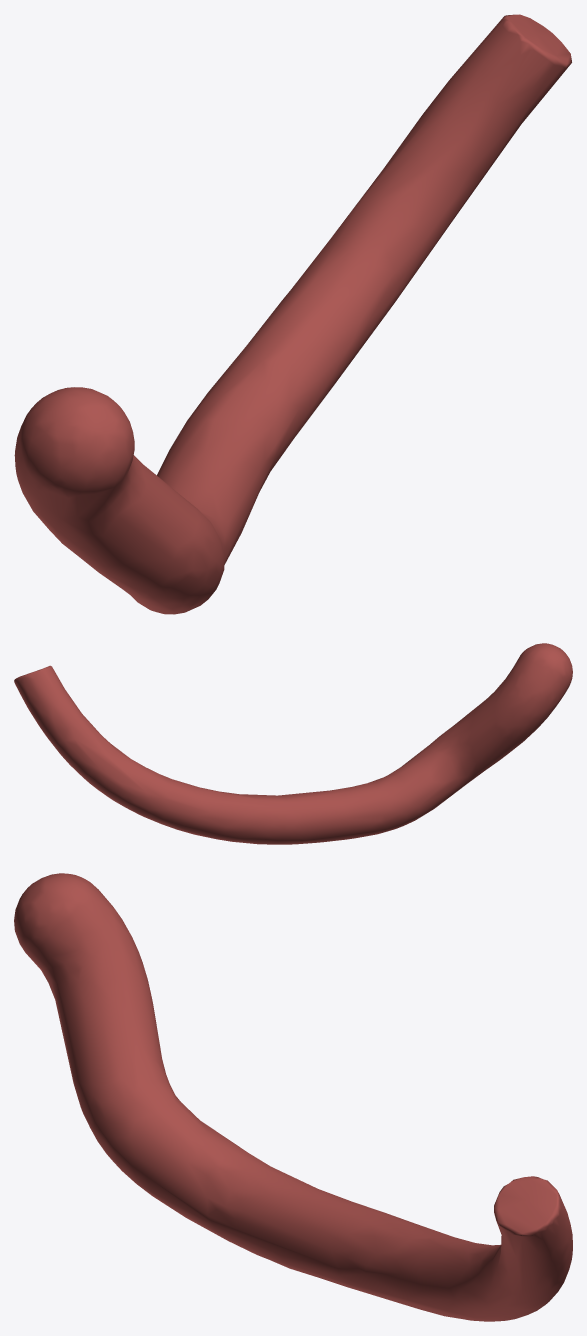
The model's file is FMA4706.glb.
3 renders of one model, top to bottom at view 1: azimuth 30°, elevation 25°; view 2: azimuth 150°, elevation 25°; view 3: azimuth 270°, elevation 25°, orthographic. The views are drawn at different scales.
Visible parts, largest first — view 1: FMA4706; view 2: FMA4706; view 3: FMA4706.
Boxes of the visible parts, <box> form: FMA4706: <box>14,14,571,614</box>; FMA4706: <box>14,643,572,844</box>; FMA4706: <box>14,873,572,1321</box>.
Bounding box in the file's own units: 0.0488 × 0.0194 × 0.0347.
